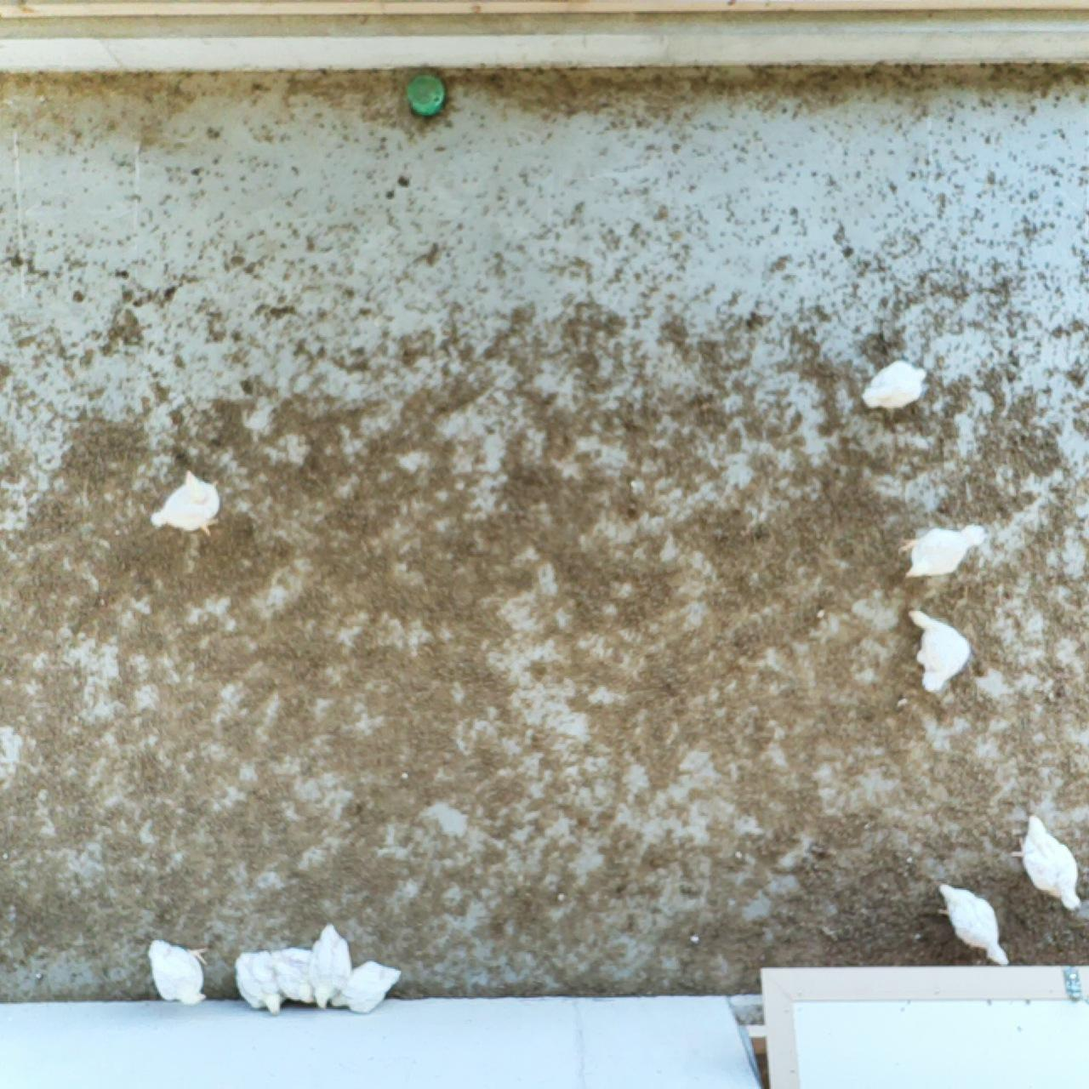chicken: (1013, 810, 1081, 907), (934, 881, 1011, 966), (908, 606, 972, 694), (899, 523, 989, 579), (153, 473, 222, 534), (151, 937, 211, 1006), (308, 922, 350, 1007), (860, 360, 926, 411), (344, 960, 403, 1015), (235, 951, 281, 1014), (276, 946, 315, 1003)
